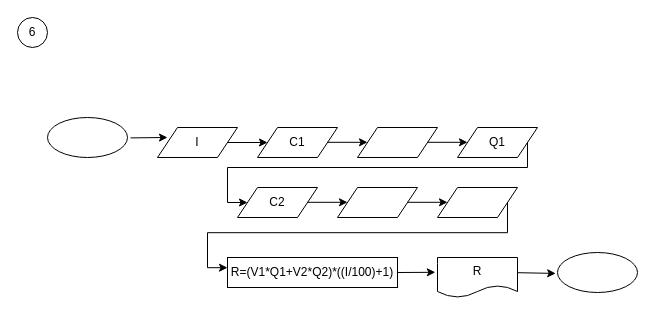
The diagram is 655 pixels wide and 315 high, and some of its shapes have lost their labels. The centre of each missing label's shape, as x and y in pixels:
"Q2" belongs at pixel 477 202.
"V1" belongs at pixel 397 142.
"V2" belongs at pixel 377 202.
